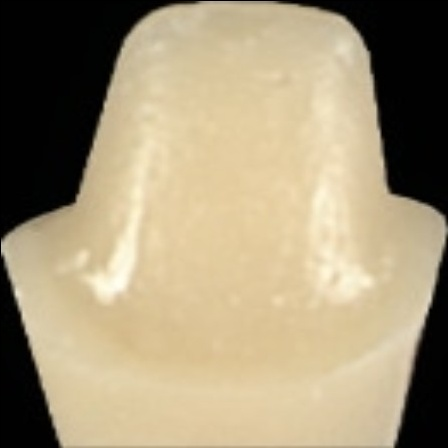coin_1: (387, 186, 407, 206)
coin_2: (366, 50, 386, 70)
coin_3: (76, 202, 96, 222)
coin_4: (116, 60, 137, 80)
